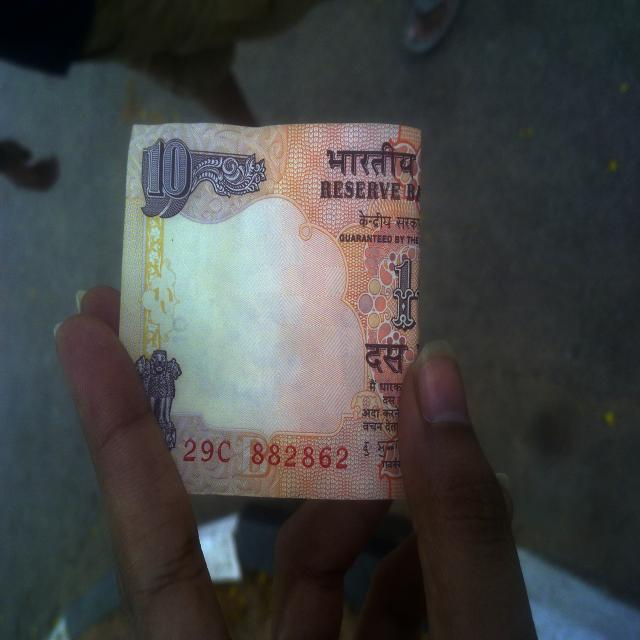10rs: (120, 124, 424, 502)
